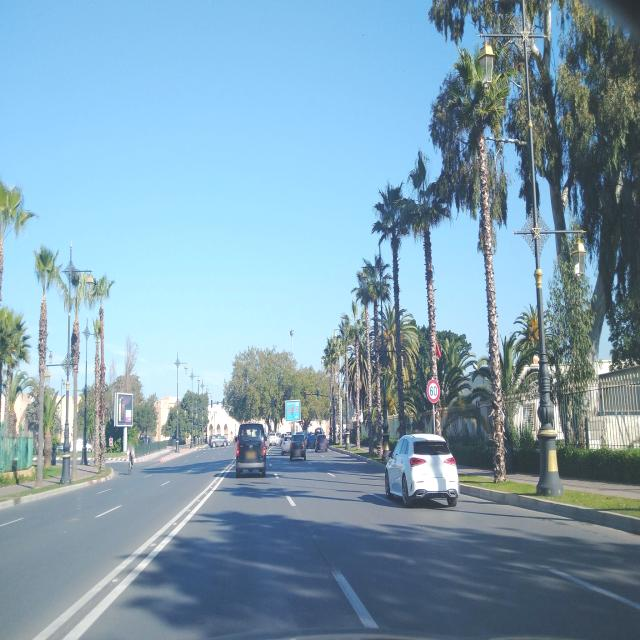bike: (128, 450, 134, 473)
car: (384, 432, 459, 508), (235, 420, 267, 478), (288, 432, 306, 461), (314, 432, 328, 453), (280, 431, 292, 455), (305, 431, 315, 450), (214, 434, 226, 448), (268, 432, 278, 448), (208, 434, 215, 448)
